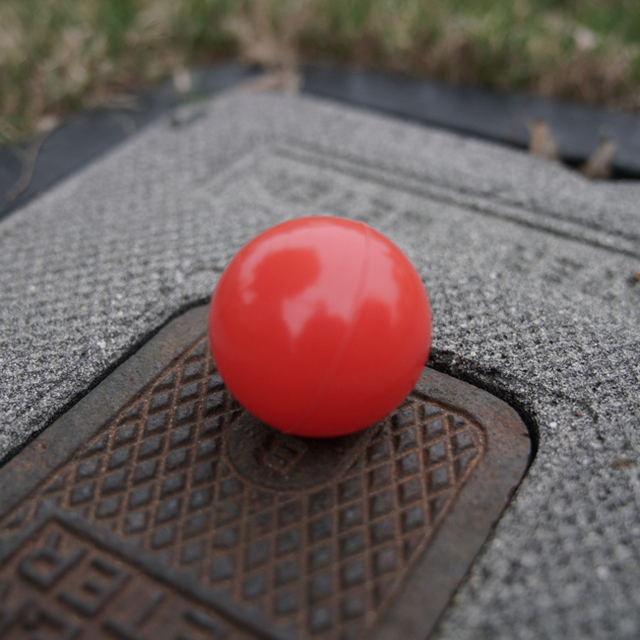Ball: (214, 216, 432, 442)
